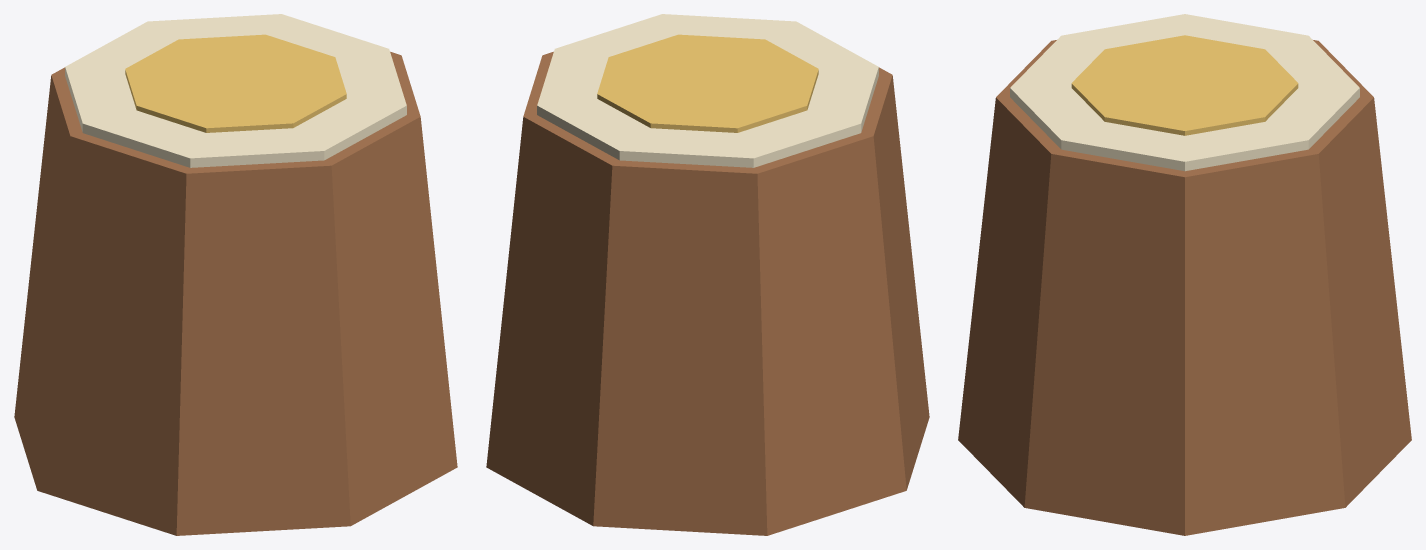
The model's file is stump.glb.
3 renders of one model, left to right at view 1: azimuth 30°, elevation 25°; view 2: azimuth 150°, elevation 25°; view 3: azimuth 270°, elevation 25°, orthographic.
Visible parts, largest first — view 1: Bark, Cut face, Growth ring; view 2: Bark, Cut face, Growth ring; view 3: Bark, Cut face, Growth ring.
Boxes of the visible parts, x1,y1,x2,y2 form: Bark: (14, 51, 457, 535); Cut face: (65, 14, 406, 167); Growth ring: (125, 34, 346, 132); Bark: (486, 51, 929, 535); Cut face: (537, 14, 878, 167); Growth ring: (597, 34, 818, 132); Bark: (958, 40, 1411, 535); Cut face: (1010, 14, 1359, 171); Growth ring: (1071, 35, 1298, 135).
Size of the model in its own units: 0.48 by 0.4165 by 0.48.
